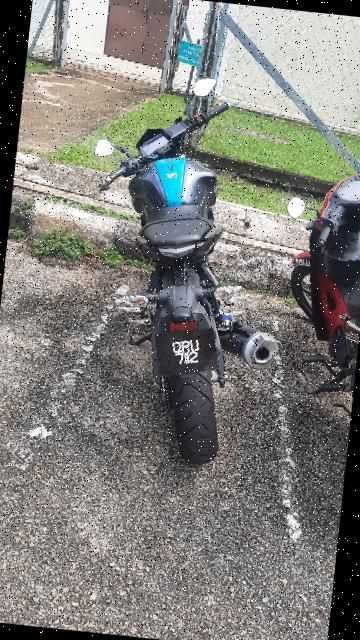License_Plate: (146, 321, 223, 384)
motorcycle: (57, 47, 314, 475)
